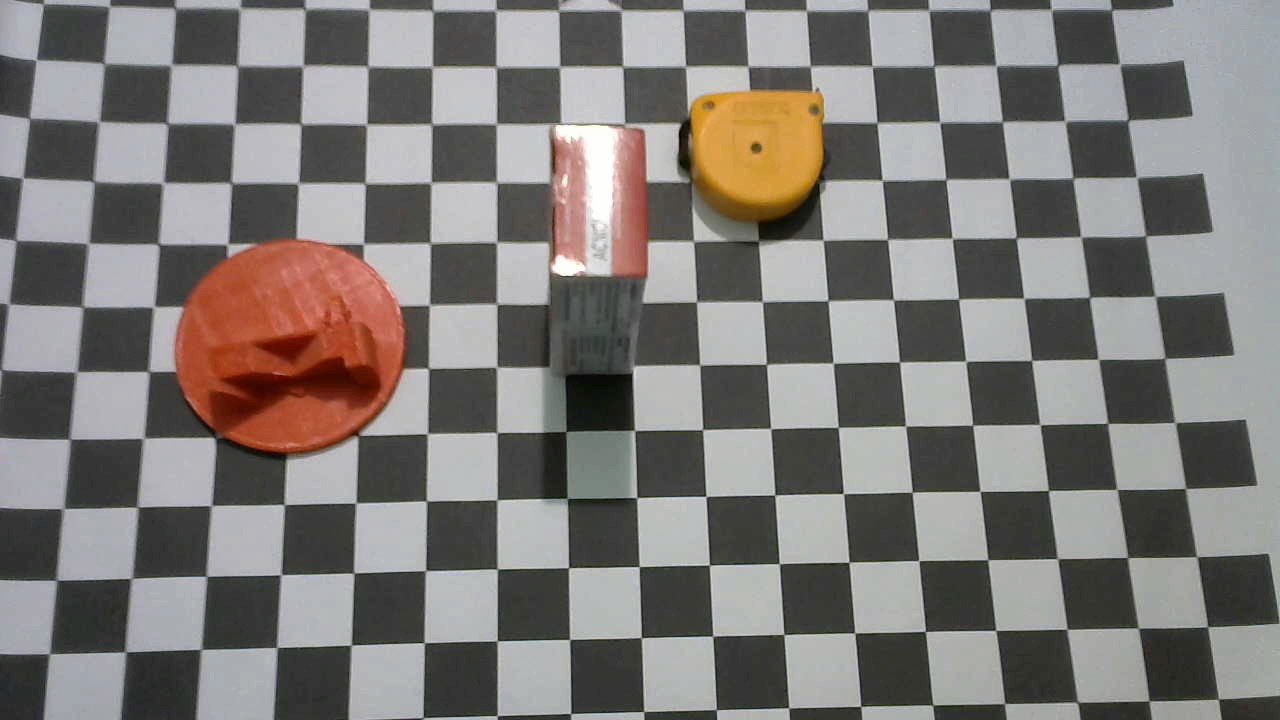blue: (172, 241, 405, 457), (681, 87, 825, 222)
red: (550, 122, 649, 377)
